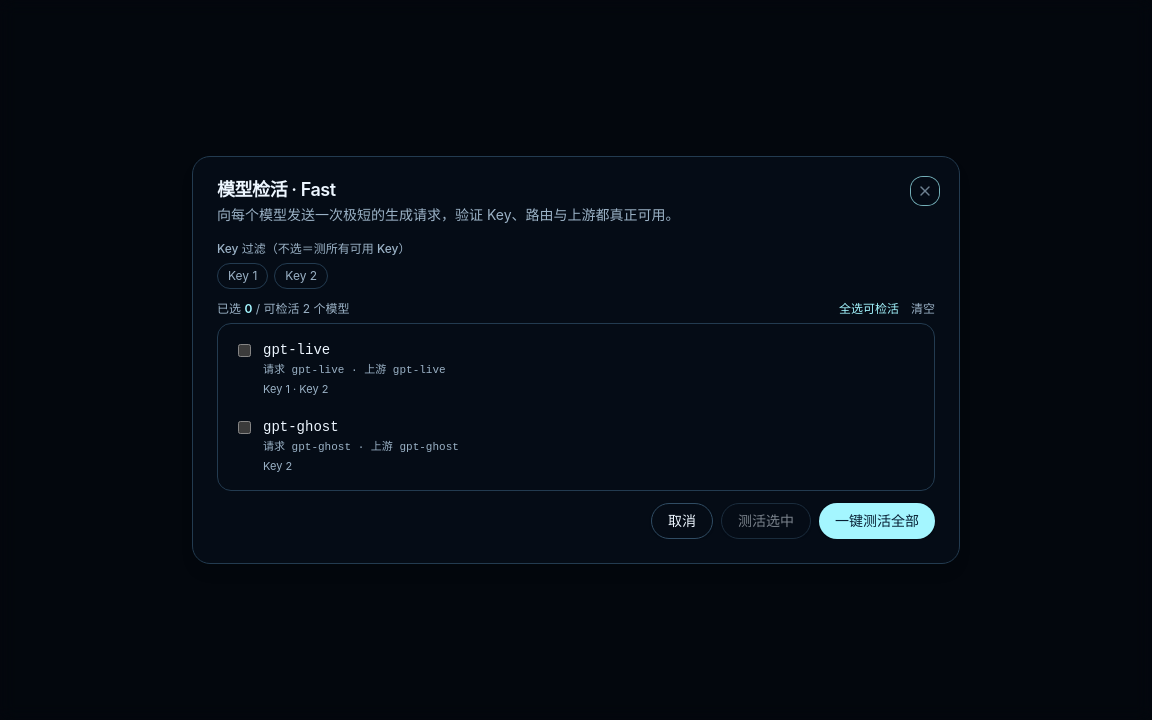
Test: HealthCheckDialog › respects the Key filter for the all model scope
Expected: the text "gpt-live" is shown, 263,340 -> 330,360
Click the button "Key 1" at {"x": 243, "y": 276}, box 217,263 -> 268,289
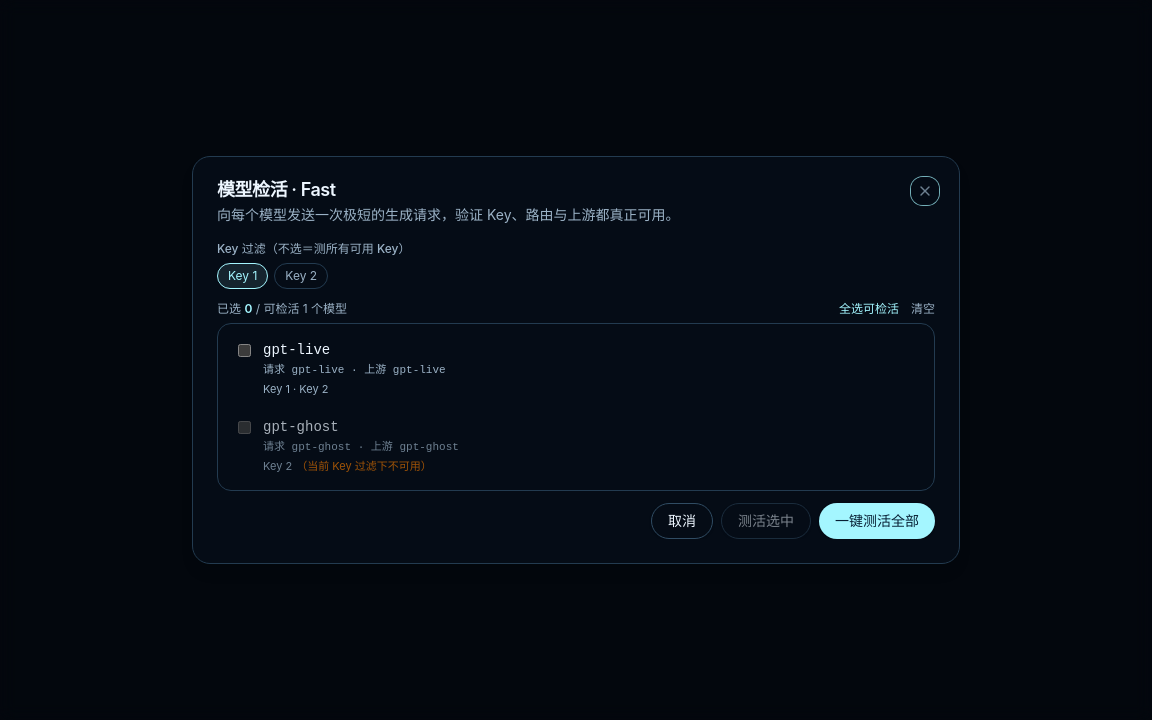
Result: the checkbox labelled "gpt-ghost 请求 gpt-ghost · 上游 gpt-ghost Key 2（当前 Key 过滤下不可用）" is disabled at 238,421 -> 251,434
Click the button "全选可检活" at {"x": 869, "y": 309}, box 839,301 -> 899,317
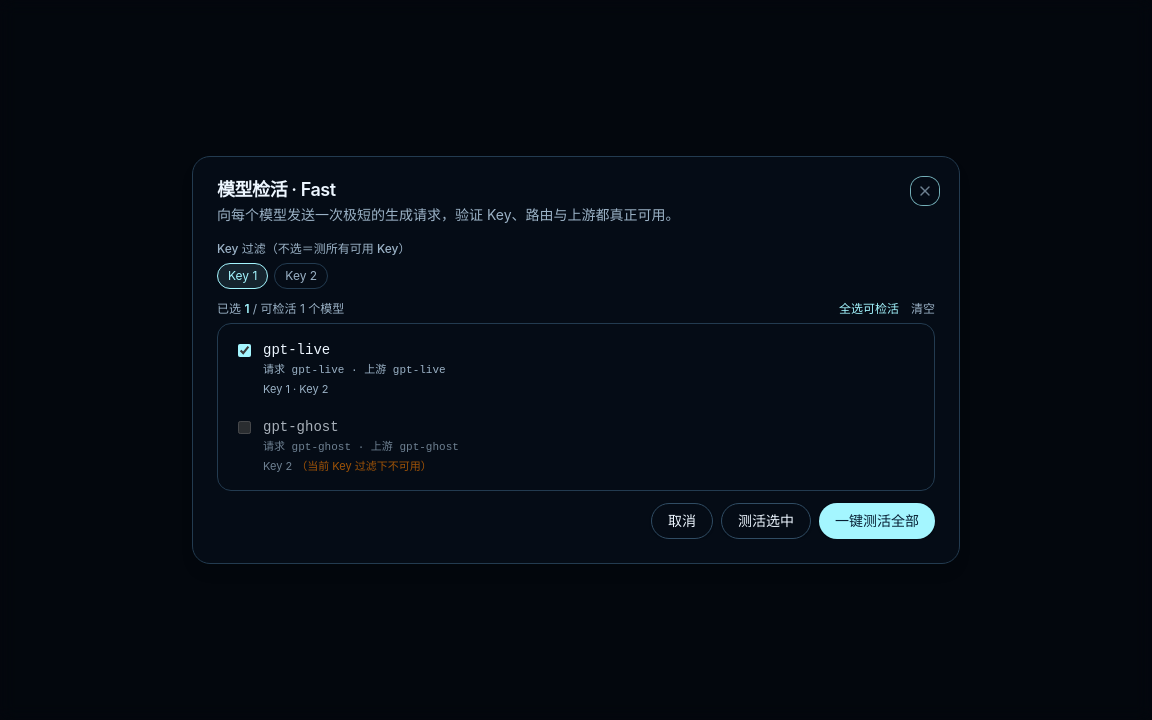
Click the button "一键测活全部" at {"x": 877, "y": 521}, box 819,503 -> 935,539
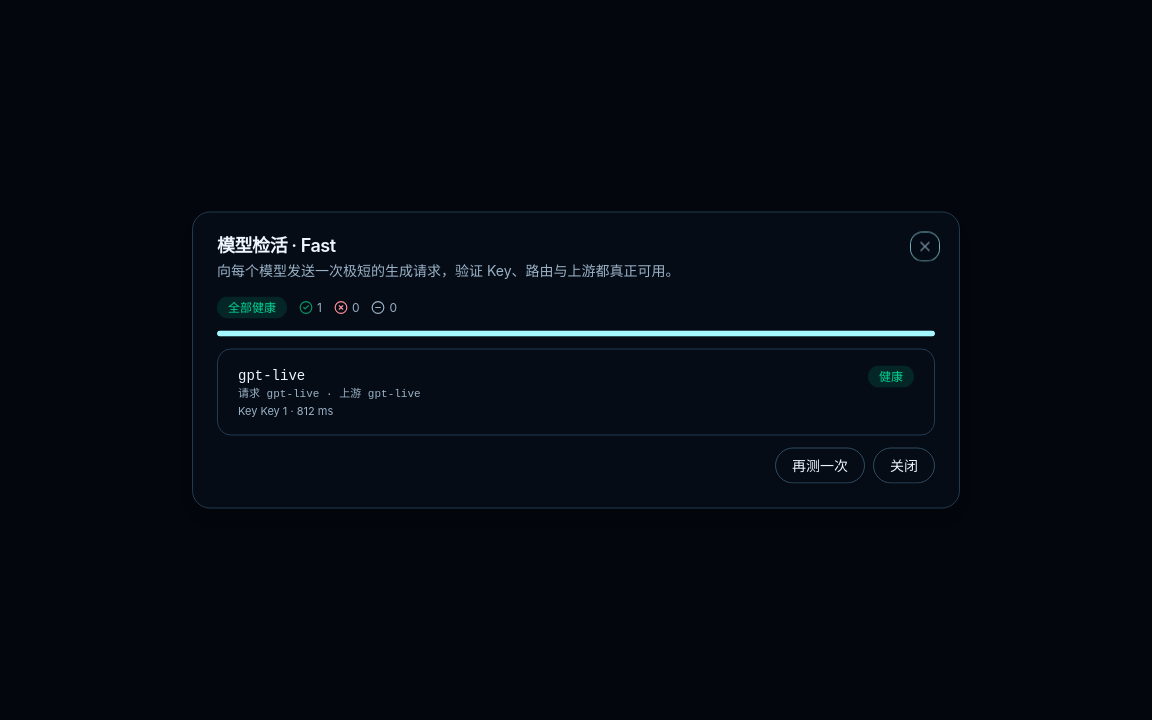
Result: the text "全部健康" is shown at 217,296 -> 287,318
